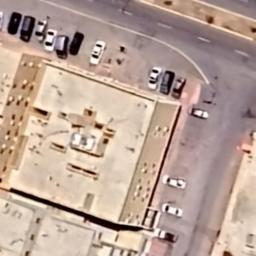SUV: (7, 11, 22, 35), (34, 20, 48, 42)
others: (56, 36, 68, 59)
pickup: (153, 227, 179, 243), (190, 106, 210, 120)
sedan: (162, 173, 188, 191), (89, 40, 107, 64), (69, 31, 85, 56), (162, 202, 184, 218), (171, 76, 186, 98), (148, 67, 162, 90), (44, 29, 58, 52)
van: (20, 16, 36, 43), (160, 70, 176, 94)
